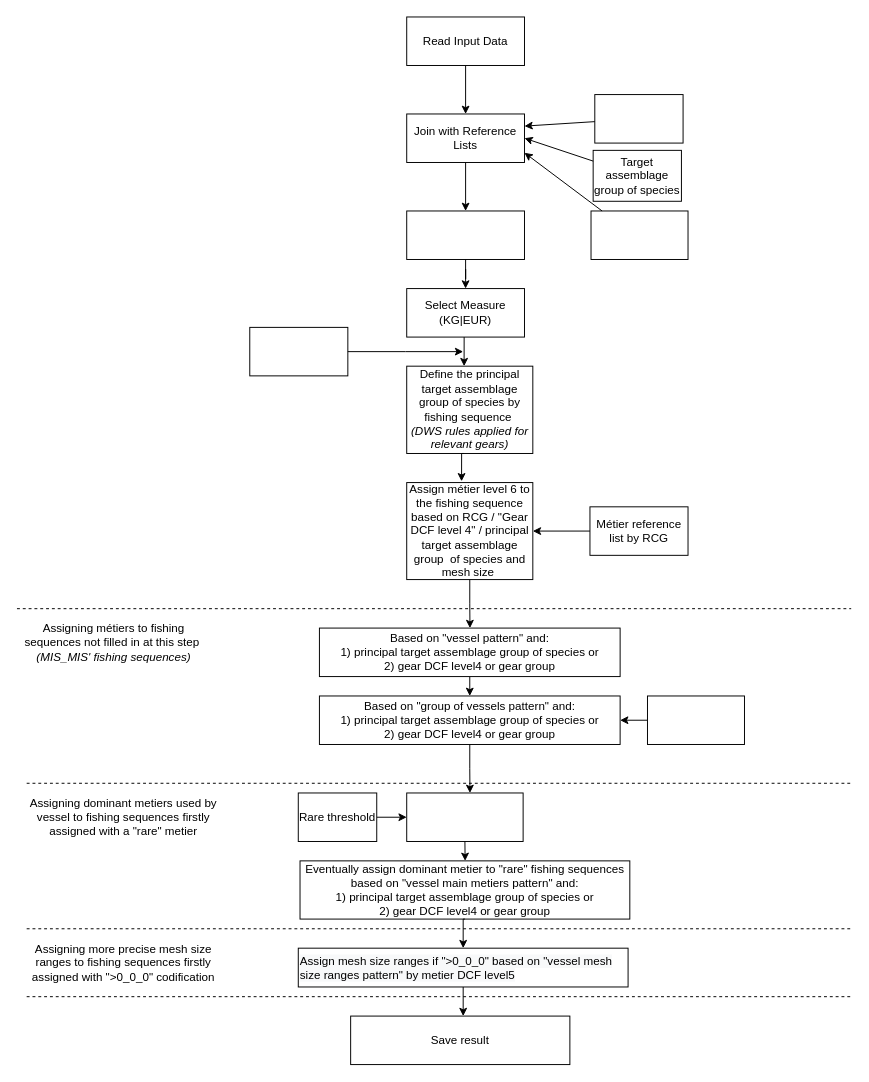
Some shapes in this 869 by 1082 pixel diagram are drawn without their labels. The shapes that lost their labels are listed below. From the top down, each one's centre as x and y in pixels, then its label:
the point at 638,118: RCG
the point at 465,234: Define Fishing Sequence
the point at 639,234: Gear group & "Gear DCF level4"
the point at 298,351: Possible national corrections
the point at 695,719: Vessel length ranges & fleet register gear
the point at 464,816: Define fishing sequence with "rare" metier assigned
